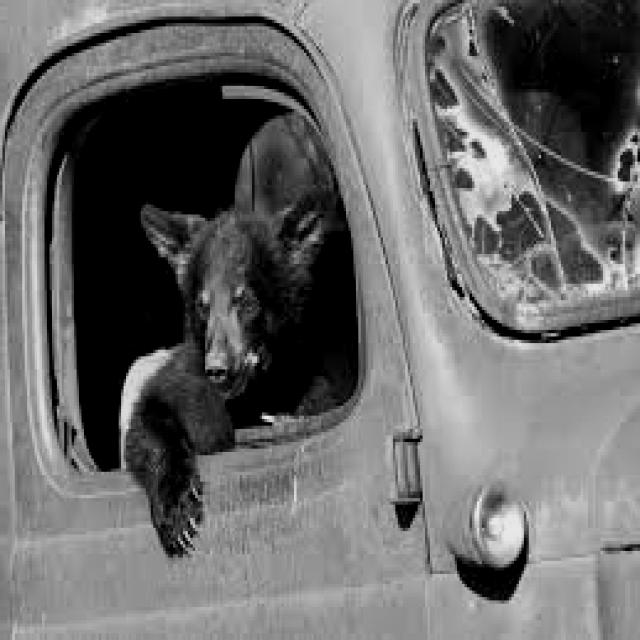bear: (119, 177, 328, 451)
